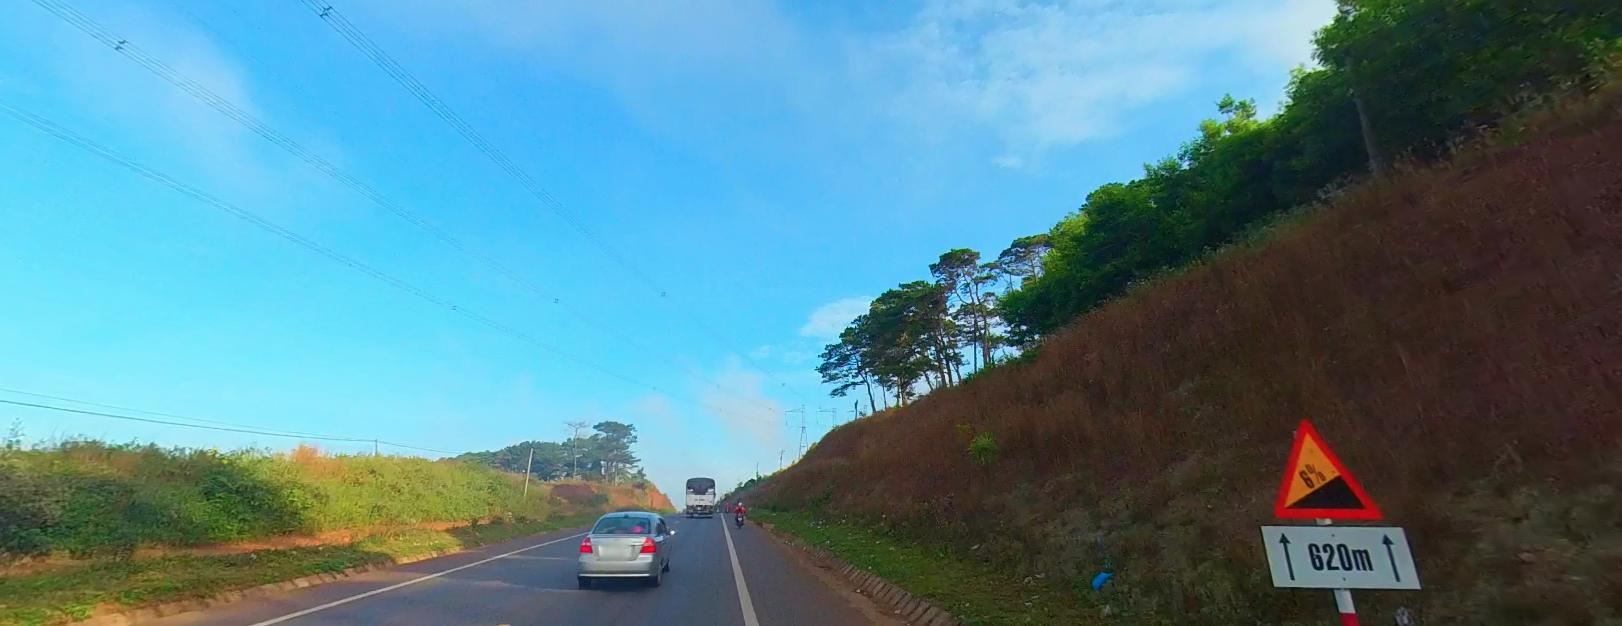Nguy hiem: (1267, 413, 1388, 525)
